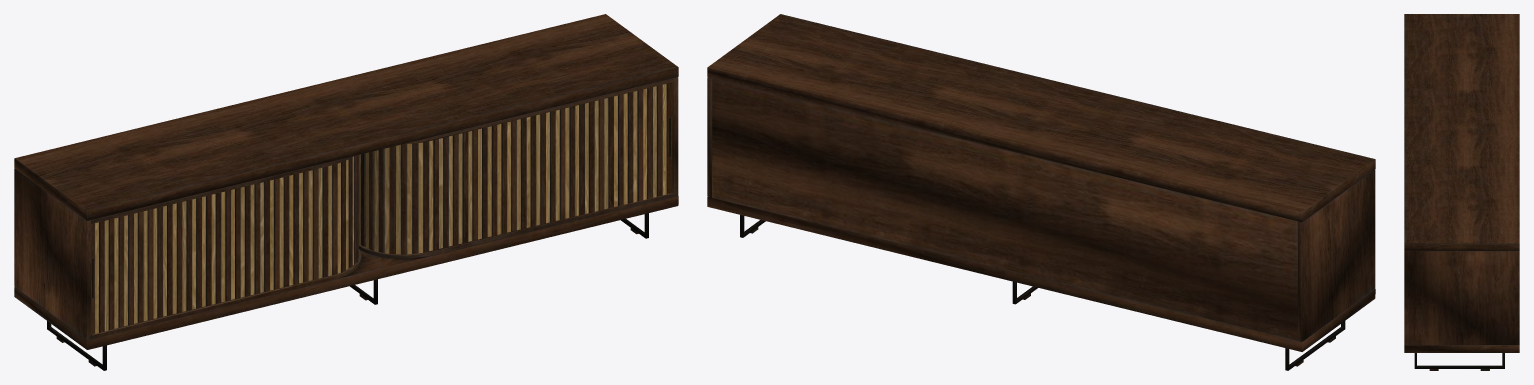
The model's file is modern_wooden_cabinet.glb.
3 renders of one model, left to right at view 1: azimuth 30°, elevation 25°; view 2: azimuth 150°, elevation 25°; view 3: azimuth 270°, elevation 25°, orthographic. The views are drawn at different scales.
Visible parts, largest first — view 1: modern_wooden_cabinet_body, modern_wooden_cabinet_door_r, modern_wooden_cabinet_door_l; view 2: modern_wooden_cabinet_body; view 3: modern_wooden_cabinet_body.
Part boxes in pixels (<box>): modern_wooden_cabinet_body: <box>14,14,678,370</box>; modern_wooden_cabinet_door_r: <box>359,82,672,254</box>; modern_wooden_cabinet_door_l: <box>91,155,358,334</box>; modern_wooden_cabinet_body: <box>707,14,1375,370</box>; modern_wooden_cabinet_body: <box>1404,14,1519,370</box>.
Size of the model in its own units: 2.44 by 0.6801 by 0.52.
1 material, 1 textured.
